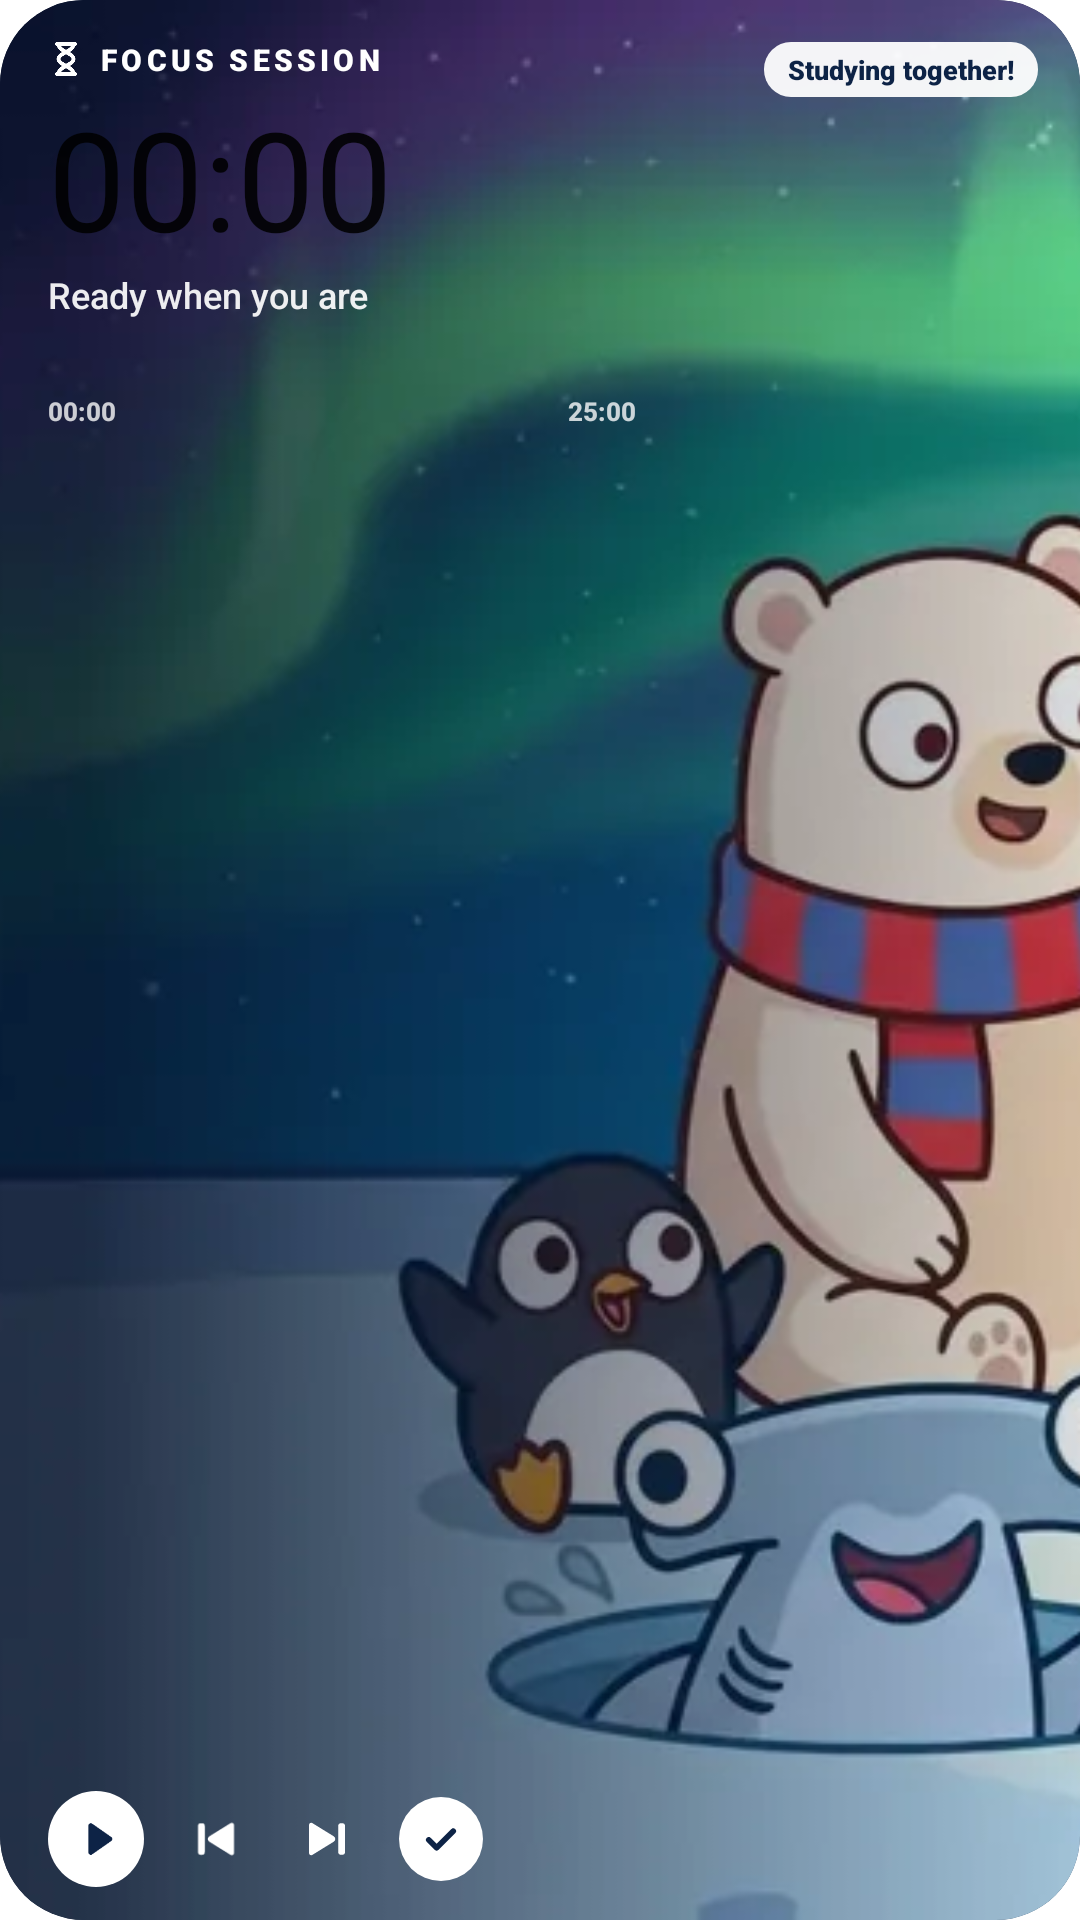

Icons on this 1080*1920 Android screen, each with its box as (x1, y1, x2, y2):
Finish and save: (399, 1797, 483, 1881)
hourglass: (55, 42, 77, 76)
Skip: (309, 1822, 345, 1856)
Start: (48, 1791, 144, 1887)
Start over: (197, 1822, 235, 1856)
